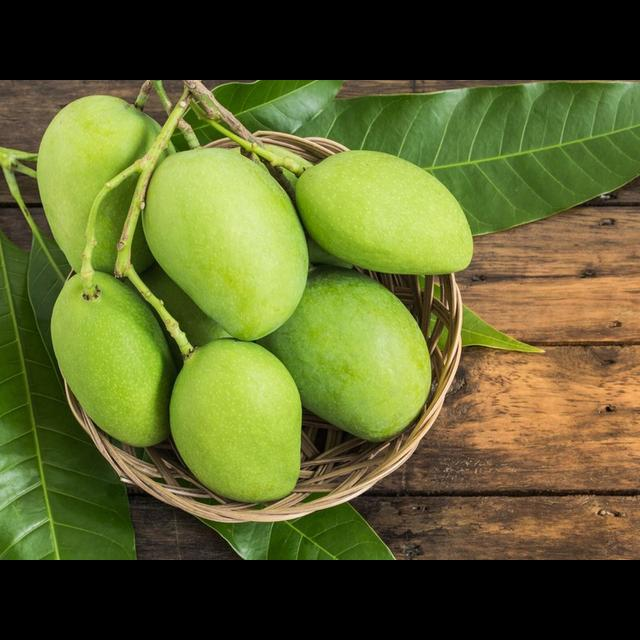xoai: (142, 148, 308, 341), (35, 96, 170, 280), (293, 149, 474, 274), (47, 272, 169, 449), (304, 272, 431, 442), (171, 340, 301, 502)
